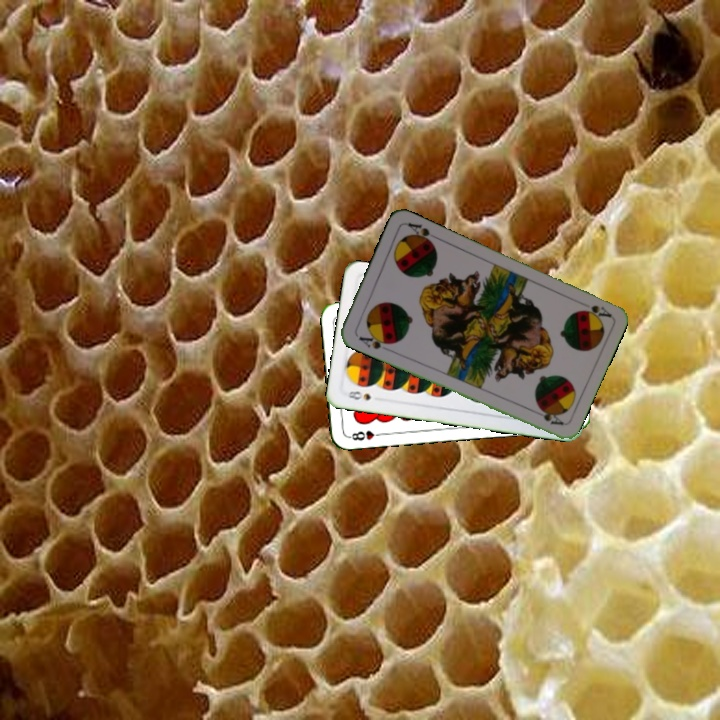H8: (345, 427, 386, 443)
S8: (343, 387, 373, 403)
SA: (355, 329, 394, 352), (576, 301, 613, 322)
